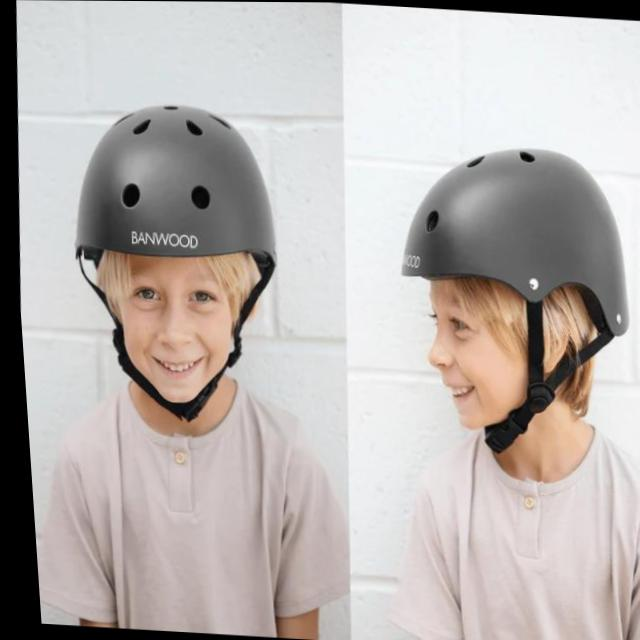helmet: (384, 134, 639, 460), (58, 97, 293, 426)
